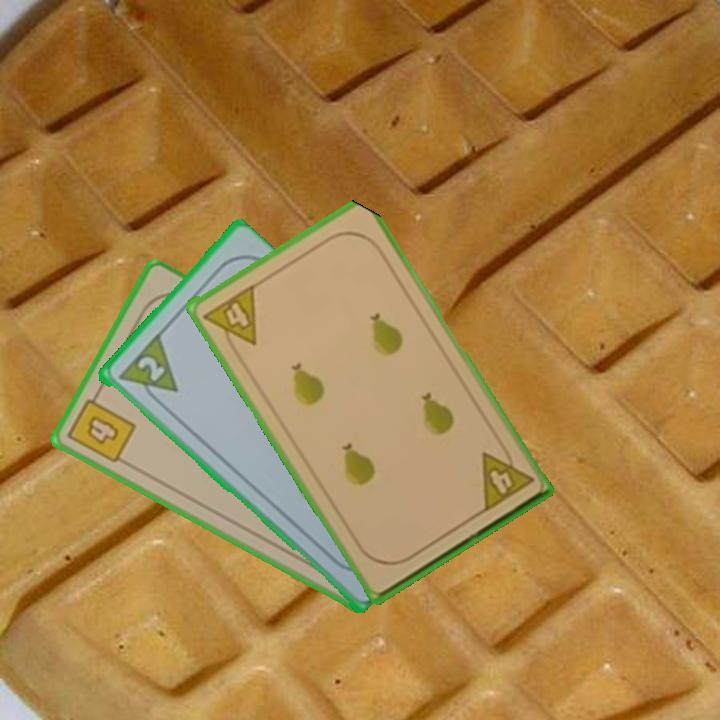2p: (114, 332, 181, 410)
4b: (63, 387, 139, 467)
4p: (199, 281, 260, 358), (477, 439, 537, 515)
